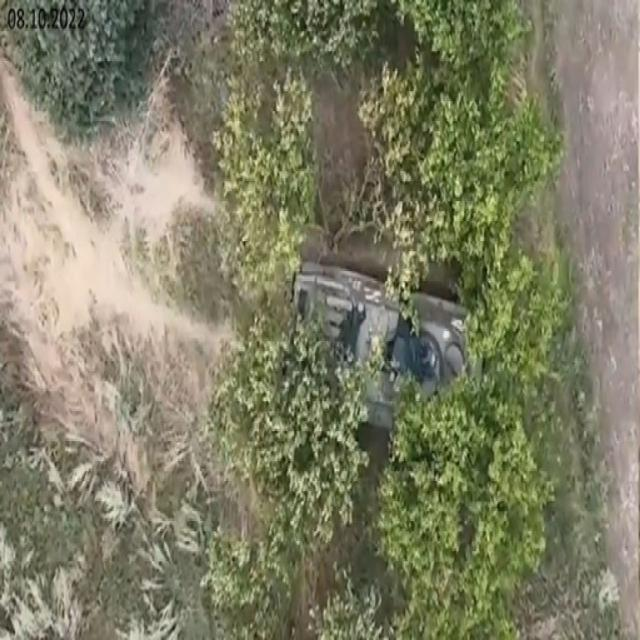APC-IFV: (286, 244, 489, 456)
